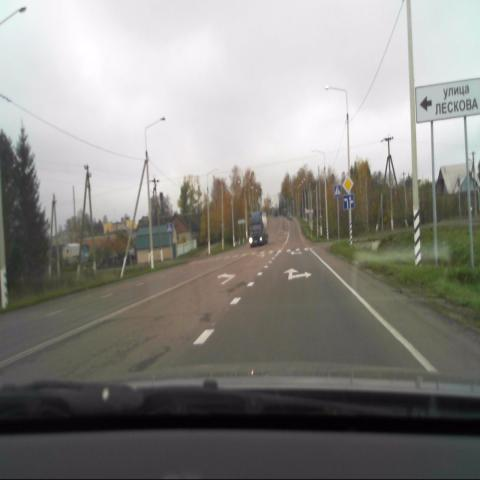2_1: (342, 175, 353, 194)
5_15_2_2: (343, 195, 354, 210)
5_19_1: (333, 184, 341, 196)
